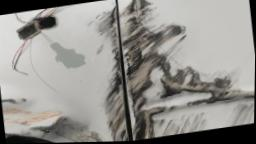Fender: (0, 0, 130, 143)
